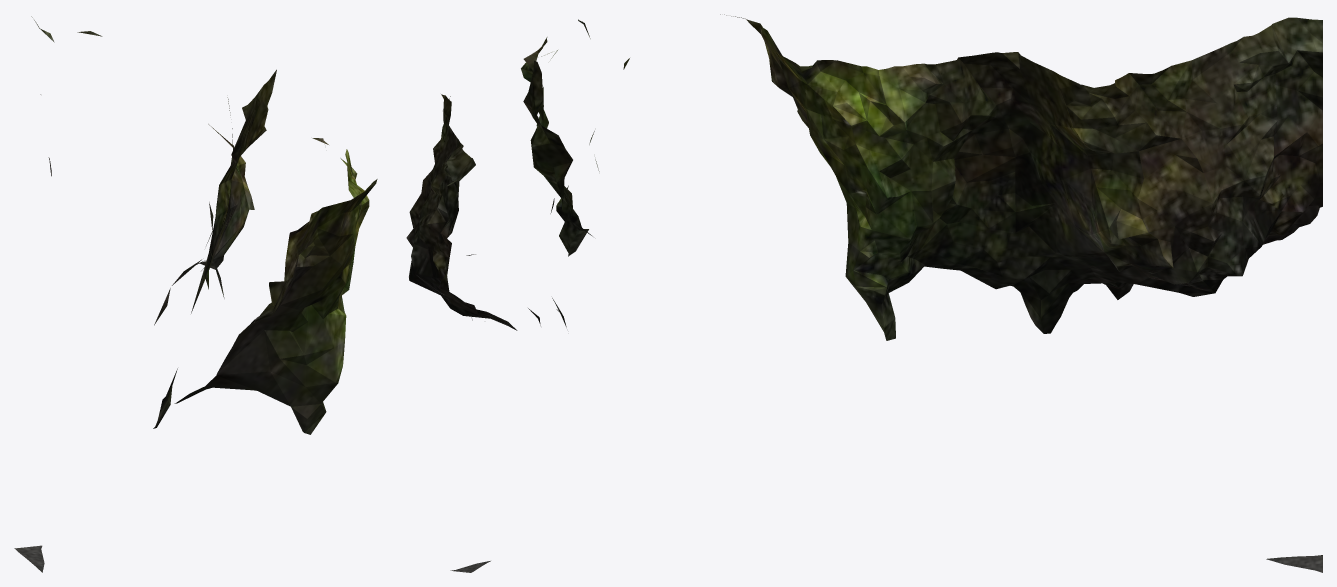
3 views of the same model, side by side, from view 1: azimuth 30°, elevation 25°; view 2: azimuth 150°, elevation 25°; view 3: azimuth 270°, elevation 25° (orthographic). The views are drawn at different scales.
Size of the model in its own units: 0.9983 by 3.35 by 3.35.
Materials: 2 (2 with a texture image).
